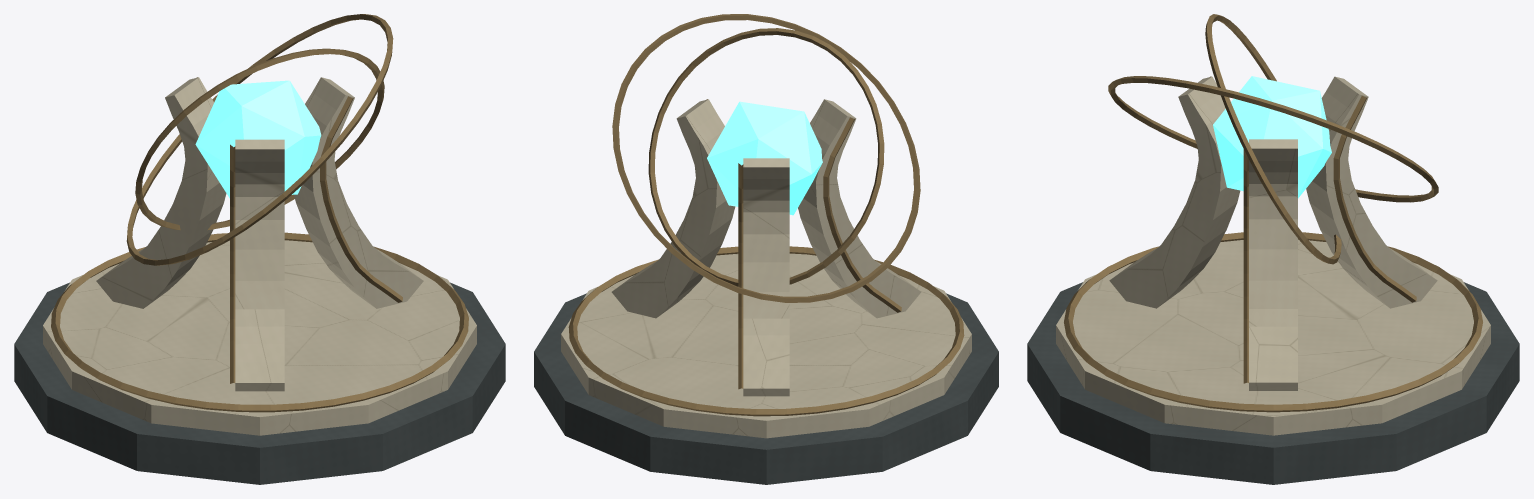
File: phase-altar.glb
3 renders of one model, left to right at view 1: azimuth 30°, elevation 25°; view 2: azimuth 150°, elevation 25°; view 3: azimuth 270°, elevation 25°, orthographic. The views are drawn at different scales.
Parts seen in each view (by area): view 1: ceramic, basalt, bronze, ACTIVE_CYAN; view 2: ceramic, basalt, bronze, ACTIVE_CYAN; view 3: ceramic, basalt, bronze, ACTIVE_CYAN.
Boxes of the visible parts, x1,y1,x2,y2 form: ceramic: (43, 77, 476, 435); basalt: (14, 282, 505, 484); bronze: (51, 14, 468, 412); ACTIVE_CYAN: (195, 80, 321, 198); ceramic: (561, 99, 971, 438); basalt: (534, 293, 998, 484); bronze: (568, 14, 964, 416); ACTIVE_CYAN: (707, 101, 822, 215); ceramic: (1056, 76, 1490, 435); basalt: (1027, 282, 1519, 484); bronze: (1064, 14, 1482, 412); ACTIVE_CYAN: (1213, 76, 1331, 198).
Bounding box in the file's own units: 6 × 4.74 × 6.
Materials: 4 (3 with a texture image).
